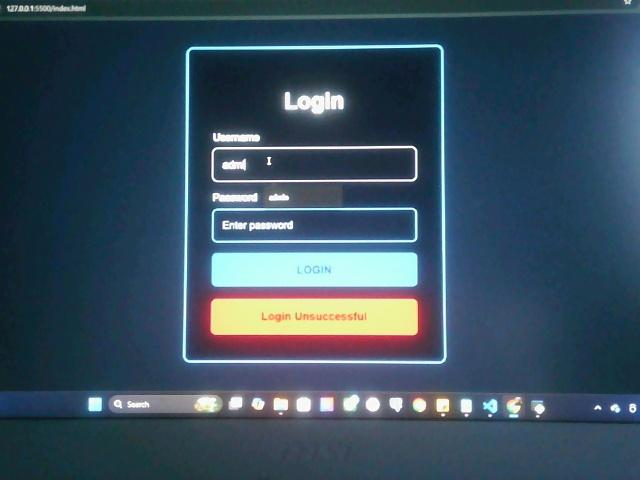login_button: (210, 250, 419, 289)
login_form: (184, 44, 446, 364)
password_input: (212, 205, 418, 244)
title_text: (282, 86, 348, 117)
unsuccess_alert: (209, 297, 420, 336)
username_input: (210, 145, 420, 184)
